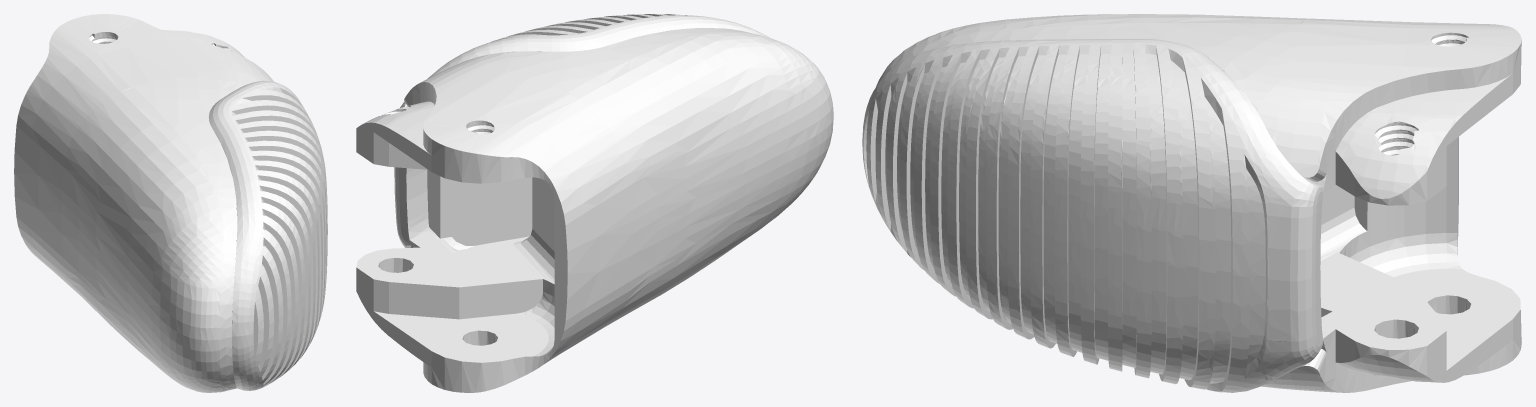
File: lh_middle_distal_vis.obj
3 views of the same model, side by side, from view 1: azimuth 30°, elevation 25°; view 2: azimuth 150°, elevation 25°; view 3: azimuth 270°, elevation 25° (orthographic). The views are drawn at different scales.
Parts seen in each view (by area): view 1: lh_middle_distal; view 2: lh_middle_distal; view 3: lh_middle_distal.
Boxes of the visible parts, bbox=[...] form: lh_middle_distal: bbox=[14, 14, 327, 392]; lh_middle_distal: bbox=[356, 14, 833, 392]; lh_middle_distal: bbox=[862, 14, 1521, 392].
Bounding box in the file's own units: 0.0182 × 0.0157 × 0.0295.
Materials: 1 (1 with a texture image).
